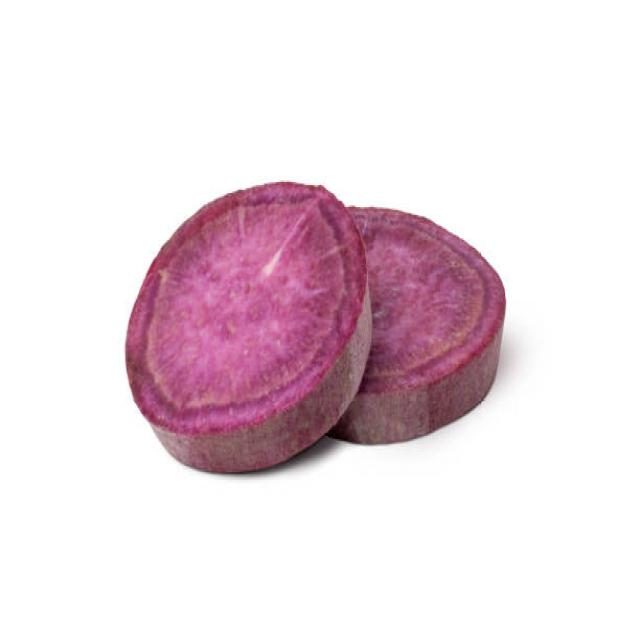sweet potato: (120, 173, 368, 474)
